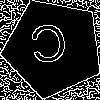C: (28, 23, 70, 73)
